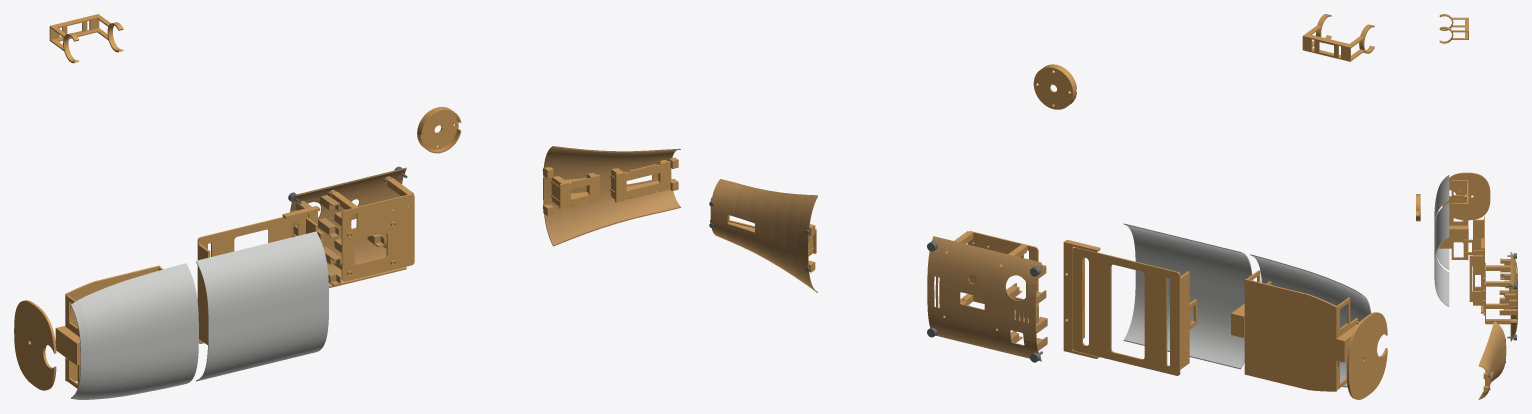
The model's file is mounts.glb.
3 renders of one model, left to right at view 1: azimuth 30°, elevation 25°; view 2: azimuth 150°, elevation 25°; view 3: azimuth 270°, elevation 25°, orthographic. The views are drawn at different scales.
Visible parts, largest first — view 1: hatch:battery, hatch:avionics, hatch:tail, mount:belly_plate, hatch:belly, mount:tail_panel, mount:pitot_mount, mount:battery_sled, mount:gps_holder, mount:avionics_tray, mount:esc_cradle, mount:avionics_rails; view 2: hatch:belly, mount:avionics_tray, hatch:battery, mount:battery_sled, hatch:tail, hatch:avionics, mount:pitot_mount, mount:gps_holder, mount:belly_plate, mount:battery_stop, mount:esc_cradle, mount:avionics_rails; view 3: mount:pitot_mount, hatch:battery, hatch:tail, hatch:belly, mount:avionics_tray, mount:battery_sled, mount:belly_plate, mount:battery_stop, hatch:avionics, mount:avionics_rails, mount:esc_cradle, mount:gps_holder (+1 smaller).
Part boxes in pixels (x1=…): hatch:battery: x1=196, y1=231, x2=328, y2=381; hatch:avionics: x1=71, y1=263, x2=198, y2=399; hatch:tail: x1=543, y1=146, x2=680, y2=246; mount:belly_plate: x1=331, y1=178, x2=414, y2=281; hatch:belly: x1=290, y1=167, x2=406, y2=288; mount:tail_panel: x1=551, y1=160, x2=670, y2=209; mount:pitot_mount: x1=14, y1=300, x2=56, y2=390; mount:battery_sled: x1=197, y1=214, x2=317, y2=344; mount:gps_holder: x1=417, y1=107, x2=461, y2=153; mount:avionics_tray: x1=65, y1=265, x2=162, y2=388; mount:esc_cradle: x1=49, y1=14, x2=123, y2=63; mount:avionics_rails: x1=55, y1=326, x2=80, y2=365; hatch:belly: x1=927, y1=236, x2=1047, y2=361; mount:avionics_tray: x1=1244, y1=270, x2=1359, y2=391; hatch:battery: x1=1123, y1=223, x2=1252, y2=369; mount:battery_sled: x1=1072, y1=247, x2=1197, y2=375; hatch:tail: x1=710, y1=179, x2=817, y2=292; hatch:avionics: x1=1250, y1=254, x2=1371, y2=387; mount:pitot_mount: x1=1346, y1=312, x2=1387, y2=399; mount:gps_holder: x1=1033, y1=64, x2=1076, y2=109; mount:belly_plate: x1=954, y1=231, x2=1038, y2=310; mount:battery_stop: x1=1063, y1=239, x2=1100, y2=358; mount:esc_cradle: x1=1302, y1=14, x2=1374, y2=61; mount:avionics_rails: x1=1231, y1=304, x2=1357, y2=362; mount:pitot_mount: x1=1449, y1=172, x2=1490, y2=220; hatch:battery: x1=1434, y1=203, x2=1449, y2=306; hatch:tail: x1=1478, y1=321, x2=1506, y2=399; hatch:belly: x1=1499, y1=252, x2=1517, y2=341; mount:avionics_tray: x1=1438, y1=180, x2=1468, y2=260; mount:battery_sled: x1=1463, y1=216, x2=1484, y2=305; mount:belly_plate: x1=1483, y1=263, x2=1510, y2=324; mount:battery_stop: x1=1469, y1=238, x2=1484, y2=313; hatch:avionics: x1=1434, y1=175, x2=1449, y2=269; mount:avionics_rails: x1=1444, y1=196, x2=1468, y2=242; mount:esc_cradle: x1=1439, y1=14, x2=1468, y2=43; mount:gps_holder: x1=1416, y1=194, x2=1420, y2=221.
Size of the model in its own units: 0.875 by 0.4838 by 0.2012.
